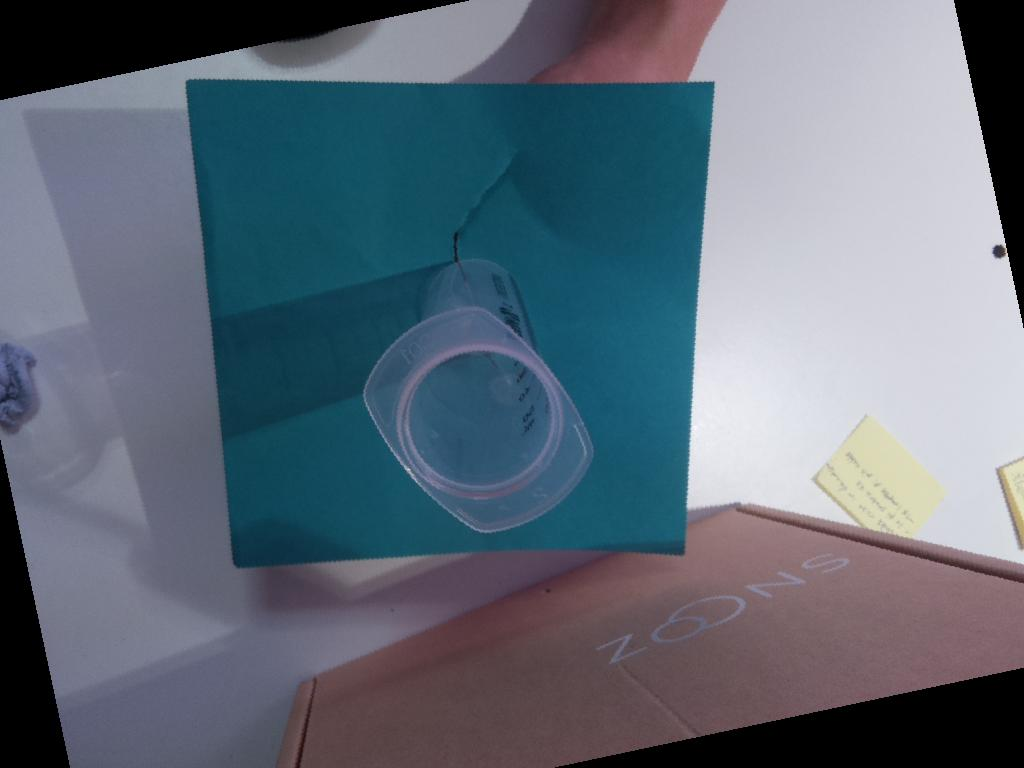clean: (361, 306, 594, 533)
